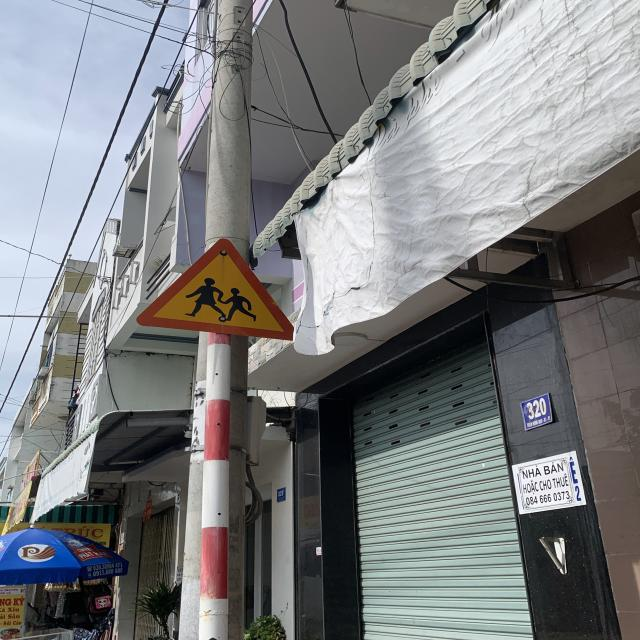Vong_Xuyen: (134, 238, 300, 342)
